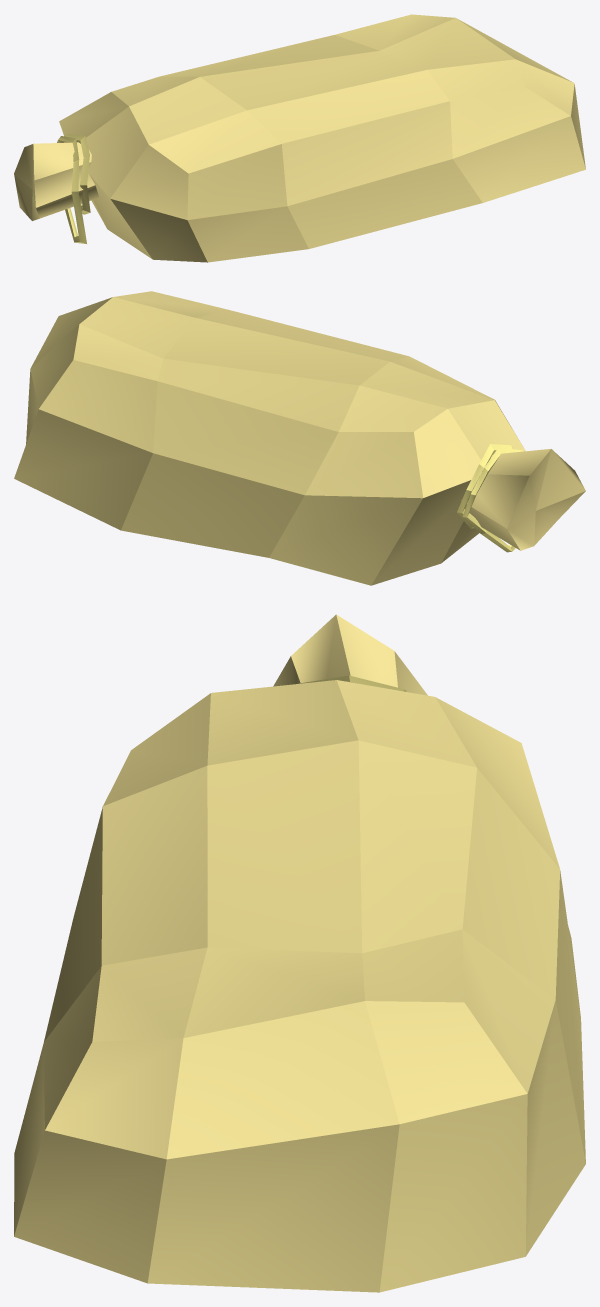
The model's file is Sand_Bag_.fbx.
The picture shows the model from 3 angles, top to bottom: view 1: azimuth 30°, elevation 25°; view 2: azimuth 150°, elevation 25°; view 3: azimuth 270°, elevation 25°; orthographic projection. The views are drawn at different scales.
Parts seen in each view (by area): view 1: Sand_Bag_; view 2: Sand_Bag_; view 3: Sand_Bag_.
Part boxes in pixels (<box>): Sand_Bag_: <box>14,14,585,262</box>; Sand_Bag_: <box>14,291,585,585</box>; Sand_Bag_: <box>14,614,585,1292</box>.
Size of the model in its own units: 90.75 by 23.8 by 43.91.
